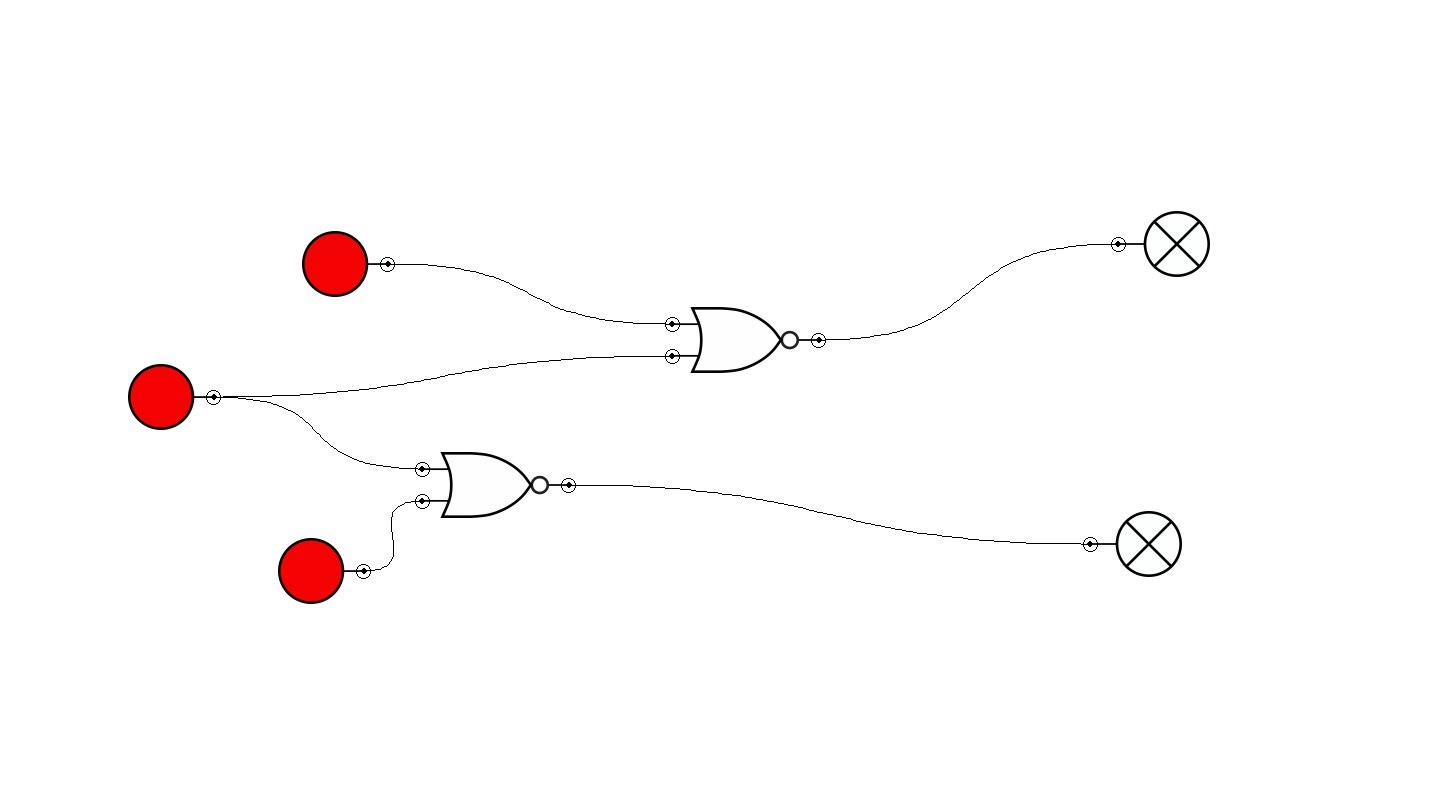bulb: (1083, 511, 1182, 577), (1111, 211, 1210, 277)
nor: (415, 452, 576, 518), (665, 307, 826, 373)
switch_False: (302, 231, 395, 297), (128, 364, 221, 430), (278, 538, 371, 604)
